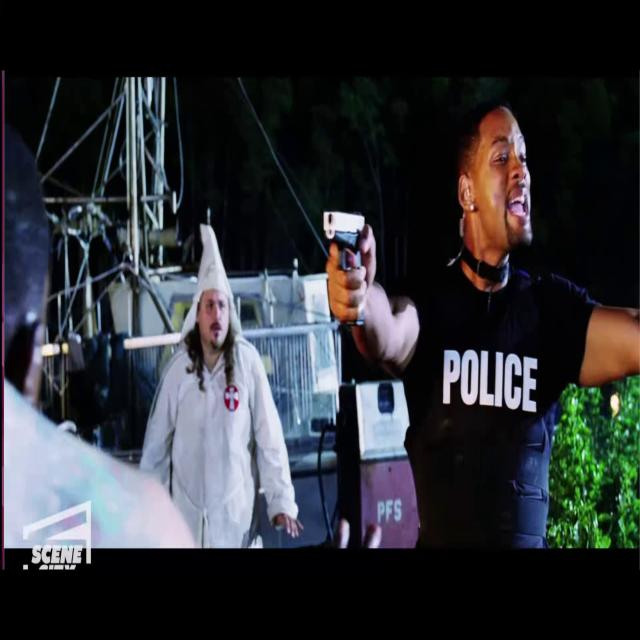weapons: (312, 187, 371, 336)
